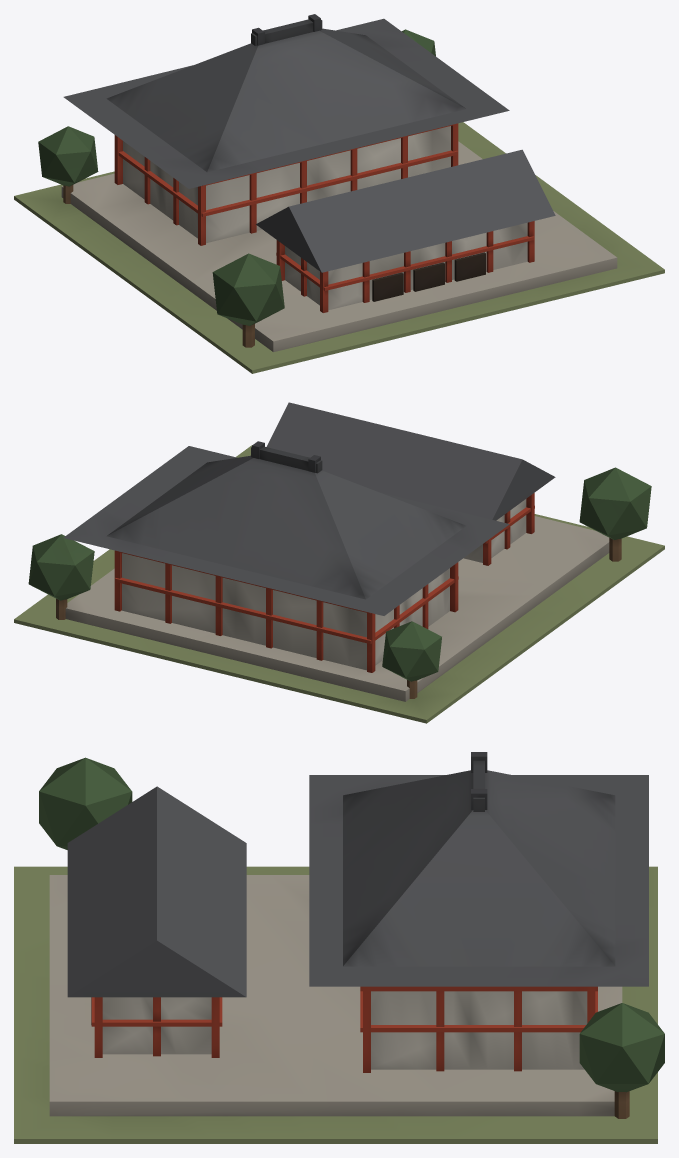
Rendered from hokkedo-752.glb.
The picture shows the model from 3 angles, top to bottom: view 1: azimuth 30°, elevation 25°; view 2: azimuth 150°, elevation 25°; view 3: azimuth 270°, elevation 25°; orthographic projection. The views are drawn at different scales.
Visible parts, largest first — view 1: p2_roofs, p0_grounds, p1_halls; view 2: p2_roofs, p0_grounds, p1_halls; view 3: p2_roofs, p0_grounds, p1_halls.
Part boxes in pixels (x1=…): p2_roofs: x1=38, y1=14, x2=555, y2=347; p0_grounds: x1=14, y1=122, x2=664, y2=373; p1_halls: x1=114, y1=123, x2=534, y2=312; p2_roofs: x1=28, y1=402, x2=651, y2=698; p0_grounds: x1=14, y1=445, x2=664, y2=723; p1_halls: x1=114, y1=493, x2=534, y2=672; p2_roofs: x1=39, y1=752, x2=664, y2=1118; p0_grounds: x1=14, y1=866, x2=657, y2=1143; p1_halls: x1=91, y1=986, x2=597, y2=1072.
Size of the model in its own units: 36.74 by 14.5 by 36.39.
